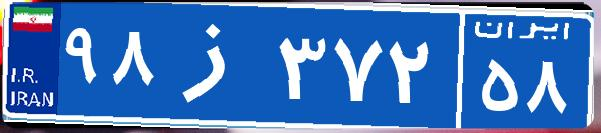2: (385, 28, 445, 110)
3: (273, 28, 330, 110)
5: (475, 38, 525, 113)
7: (330, 28, 385, 110)
8: (110, 28, 158, 105), (525, 38, 570, 115)
9: (57, 26, 110, 107)
ز: (158, 15, 273, 115)
